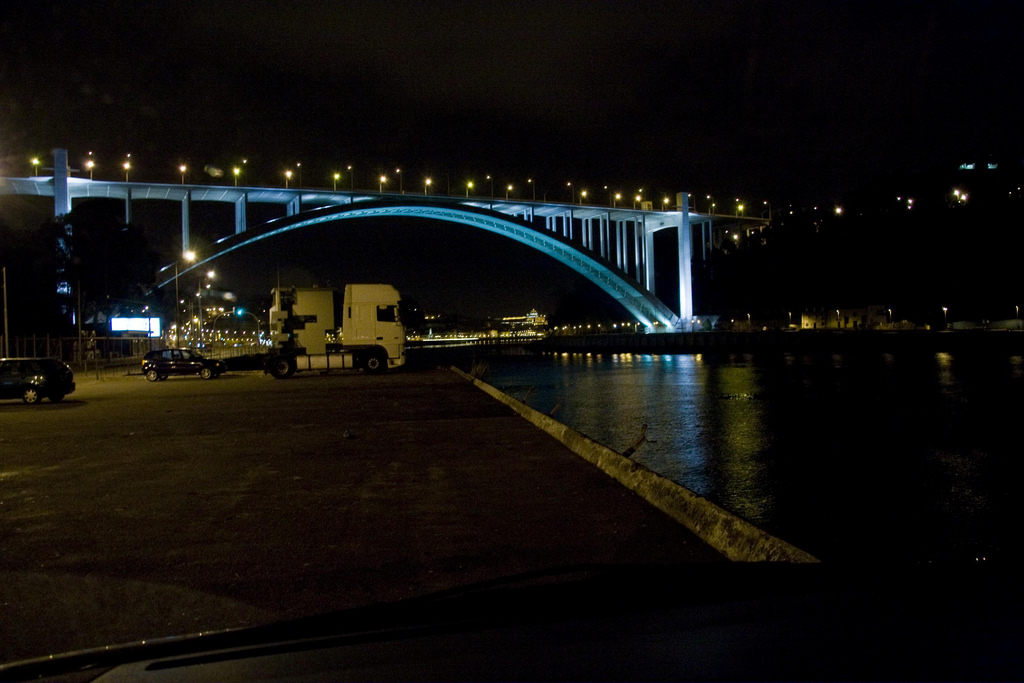arrabida: (0, 146, 772, 336)
